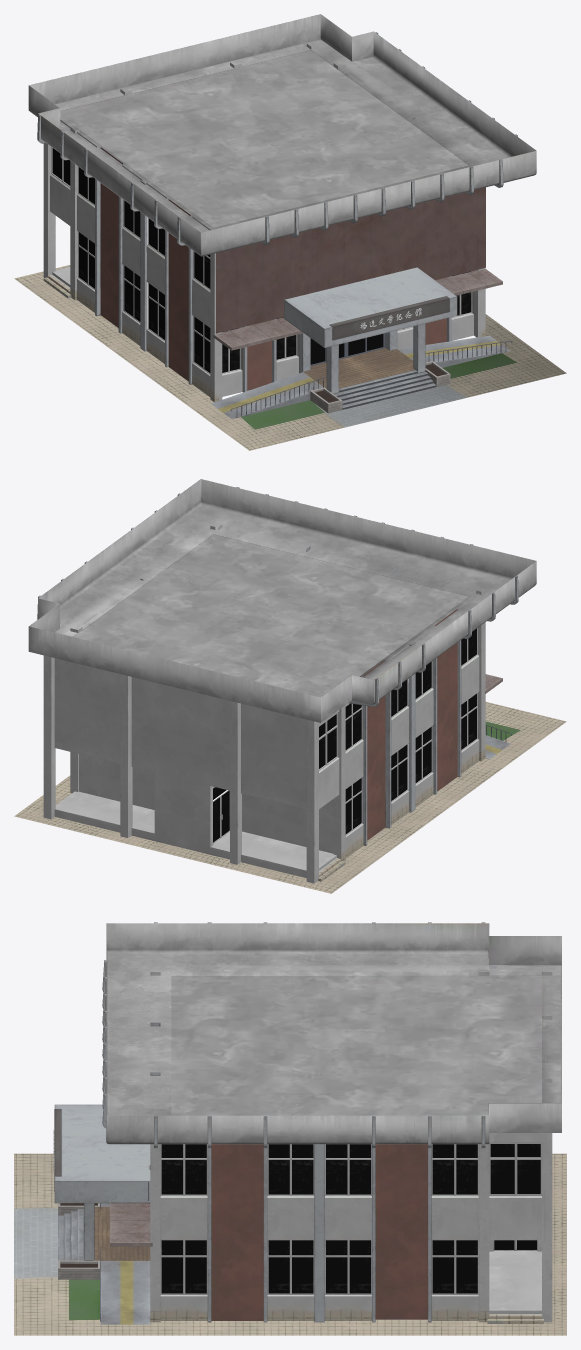
File: xinhua-yang-kuei.glb
3 views of the same model, one above another, from view 1: azimuth 30°, elevation 25°; view 2: azimuth 150°, elevation 25°; view 3: azimuth 270°, elevation 25° (orthographic). The views are drawn at different scales.
Parts seen in each view (by area): view 1: Yang-Kuei; view 2: Yang-Kuei; view 3: Yang-Kuei.
Boxes of the visible parts, x1,y1,x2,y2 form: Yang-Kuei: (14,14,566,450); Yang-Kuei: (14,479,566,893); Yang-Kuei: (14,922,566,1335).
Bounding box in the file's own units: 17.71 × 9.62 × 21.22.
Materials: 3 (3 with a texture image).
